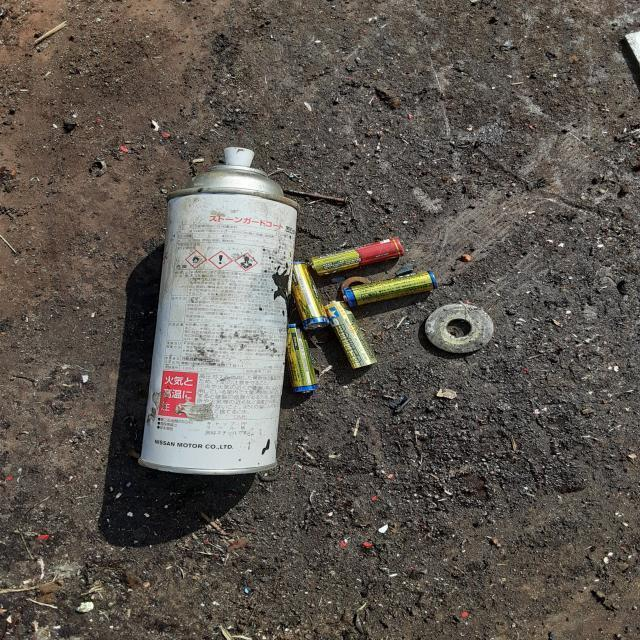Hazard: (343, 270, 438, 312), (311, 236, 405, 278), (324, 299, 378, 372), (291, 261, 330, 331), (285, 322, 318, 396)
